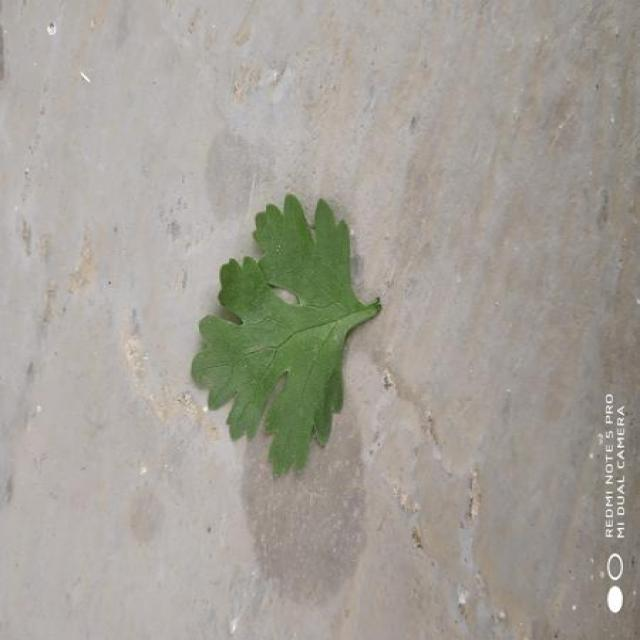coriender: (192, 195, 382, 473)
